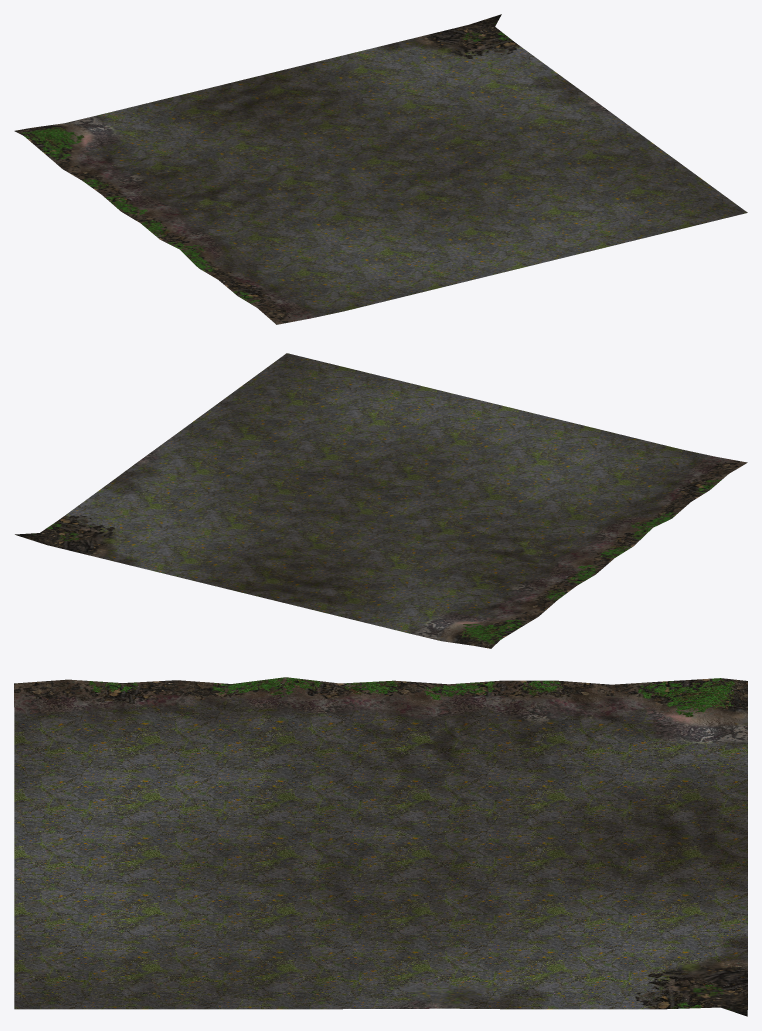
File: terrain1.glb
3 renders of one model, top to bottom at view 1: azimuth 30°, elevation 25°; view 2: azimuth 150°, elevation 25°; view 3: azimuth 270°, elevation 25°, orthographic. The views are drawn at different scales.
Parts seen in each view (by area): view 1: Terrain.001; view 2: Terrain.001; view 3: Terrain.001.
Boxes of the visible parts, x1,y1,x2,y2 form: Terrain.001: (14,14,747,324); Terrain.001: (15,353,747,648); Terrain.001: (14,677,747,1016).
Bounding box in the file's own units: 45.6 × 0.6674 × 42.51.
1 material, 1 textured.
